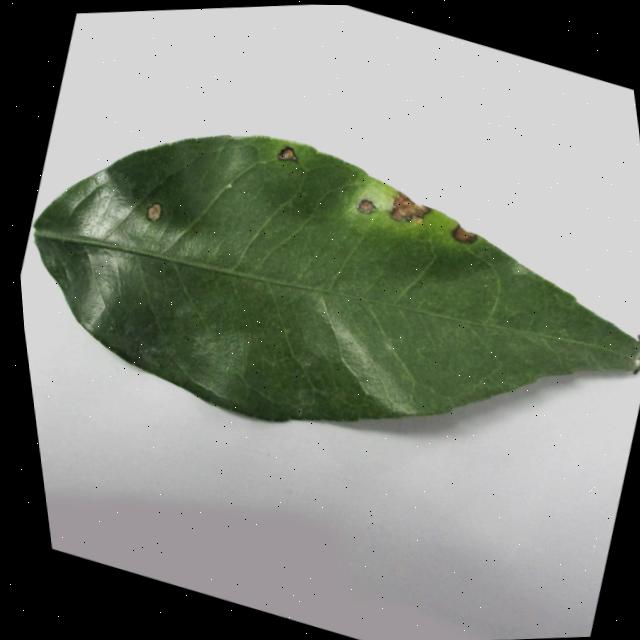antracnose: (34, 136, 640, 421), (392, 193, 431, 224), (452, 226, 477, 243), (278, 147, 298, 161), (147, 203, 162, 221), (358, 199, 376, 213)
